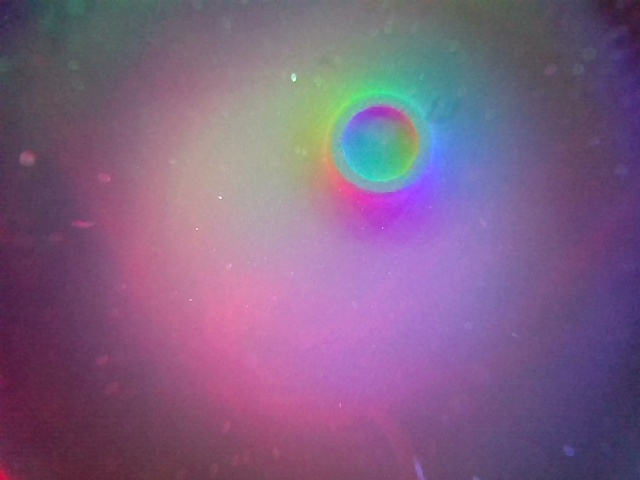contact: (327, 92, 429, 199)
